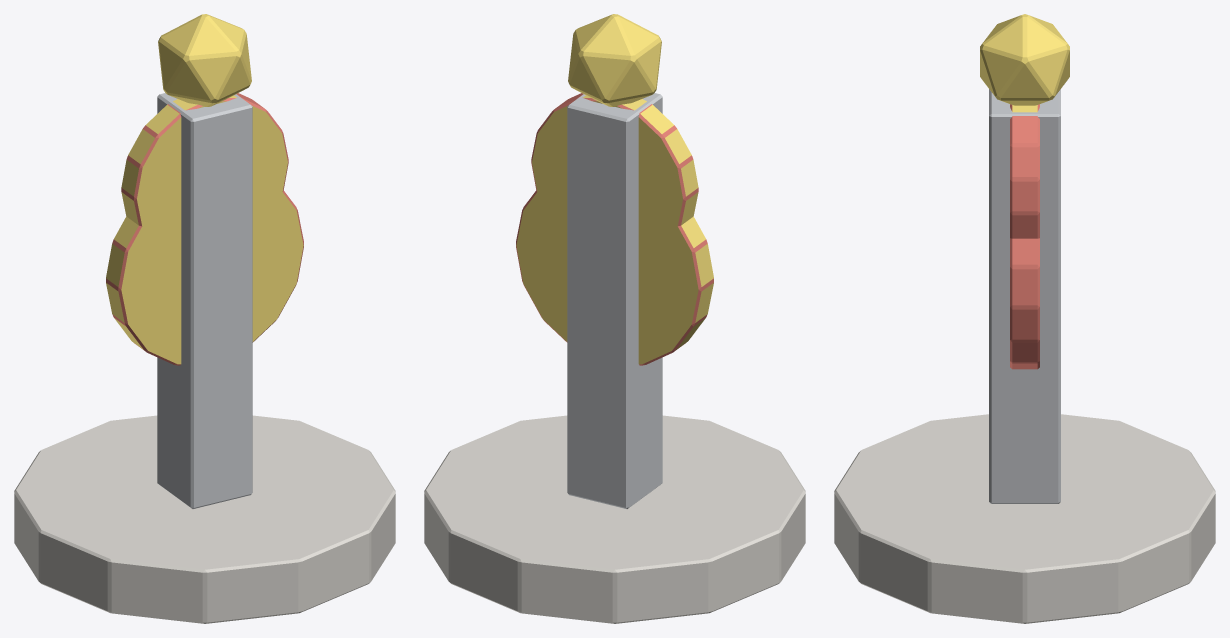
3 renders of one model, left to right at view 1: azimuth 30°, elevation 25°; view 2: azimuth 150°, elevation 25°; view 3: azimuth 270°, elevation 25°, orthographic.
Visible parts, largest first — view 1: 基座.007, 主体, 环, 顶球; view 2: 基座.007, 主体, 环, 顶球; view 3: 基座.007, 主体, 环, 顶球.
Part boxes in pixels (bbox=[...]): 基座.007: bbox=[14, 415, 395, 623]; 主体: bbox=[157, 93, 252, 508]; 环: bbox=[106, 93, 303, 365]; 顶球: bbox=[158, 14, 251, 106]; 基座.007: bbox=[424, 415, 805, 623]; 主体: bbox=[567, 93, 662, 508]; 环: bbox=[516, 93, 713, 365]; 顶球: bbox=[568, 14, 661, 106]; 基座.007: bbox=[834, 414, 1215, 623]; 主体: bbox=[989, 89, 1060, 503]; 环: bbox=[1010, 104, 1039, 369]; 顶球: bbox=[980, 14, 1069, 105].
Bounding box in the file's own units: 319 × 488 × 319.
